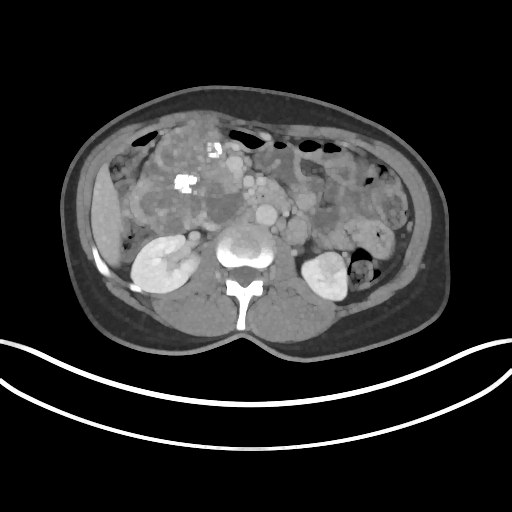Lesion: (314, 250, 346, 279)
